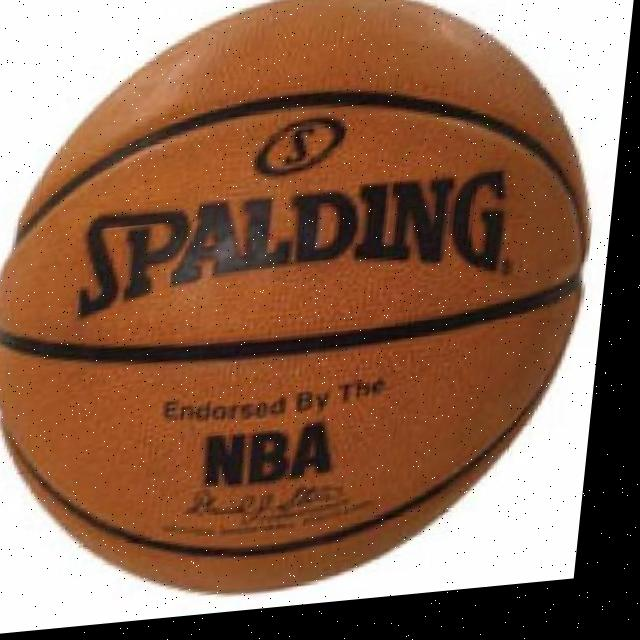Basketball: (0, 0, 624, 624)
